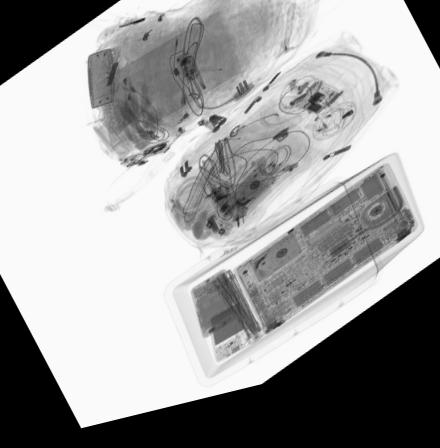Powerbank: (221, 174, 278, 226)
